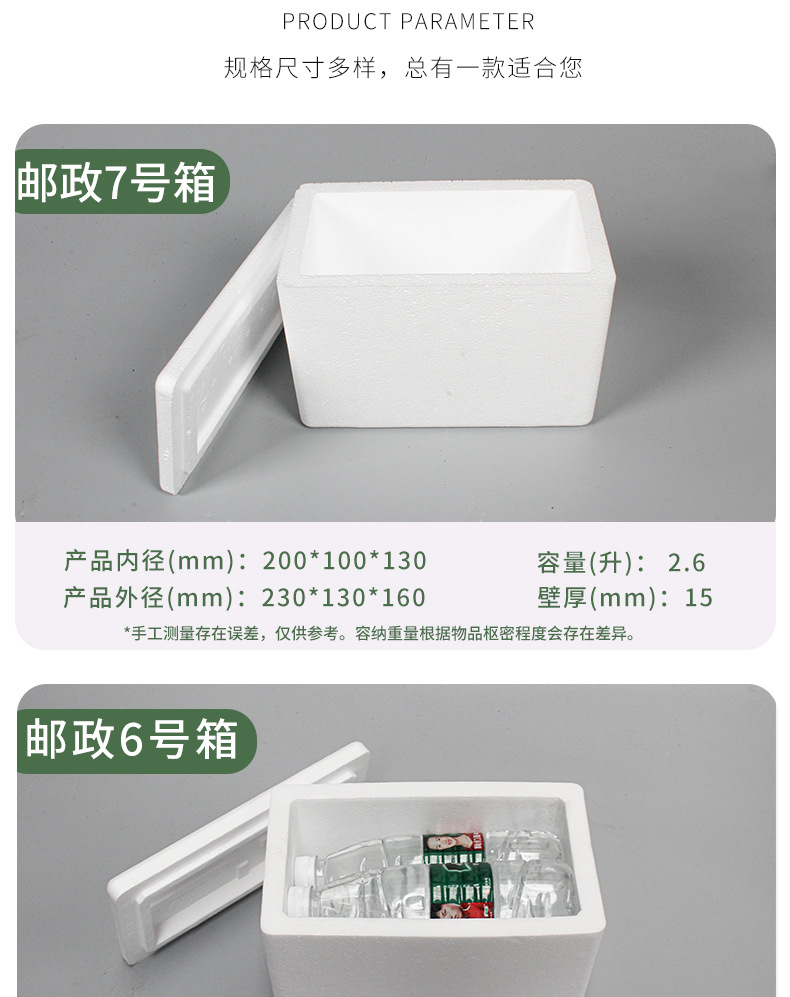泡沫箱: (169, 180, 615, 491), (108, 743, 605, 997)
